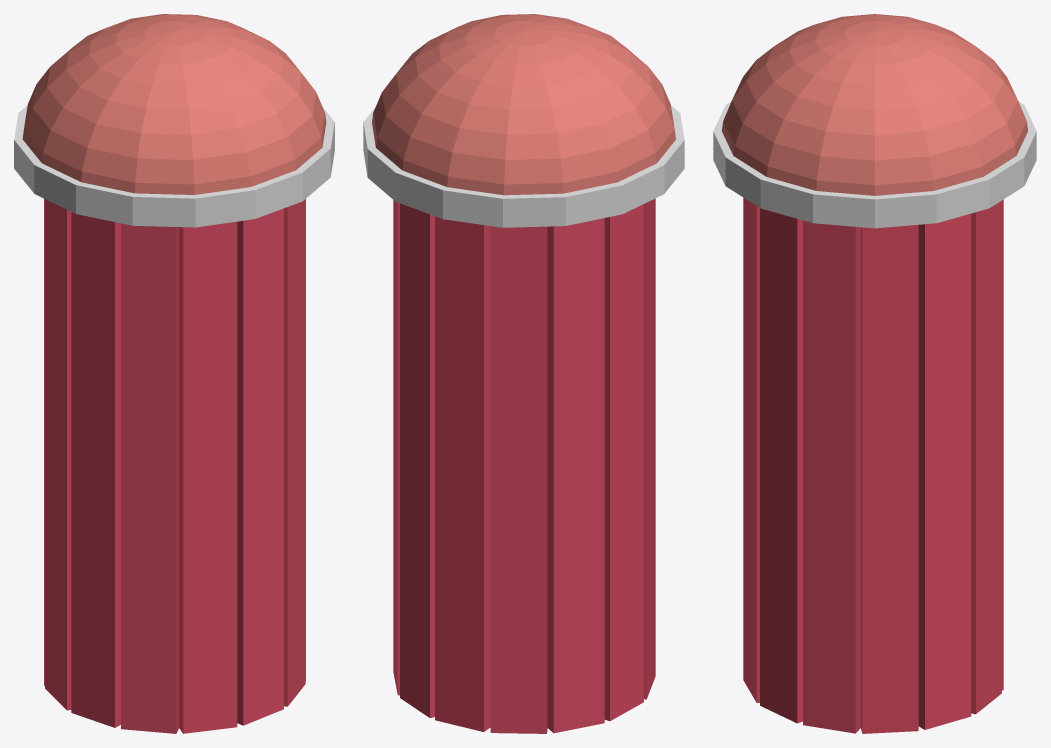
Rendered from Samanlik.fbx.
3 views of the same model, side by side, from view 1: azimuth 30°, elevation 25°; view 2: azimuth 150°, elevation 25°; view 3: azimuth 270°, elevation 25° (orthographic).
Visible parts, largest first — view 1: Samanlik; view 2: Samanlik; view 3: Samanlik.
Part boxes in pixels (left/top/right/bottom): Samanlik: left=14, top=14, right=334, bottom=733; Samanlik: left=363, top=14, right=684, bottom=733; Samanlik: left=713, top=14, right=1036, bottom=733.
Size of the model in its own units: 544 by 1201 by 544.
